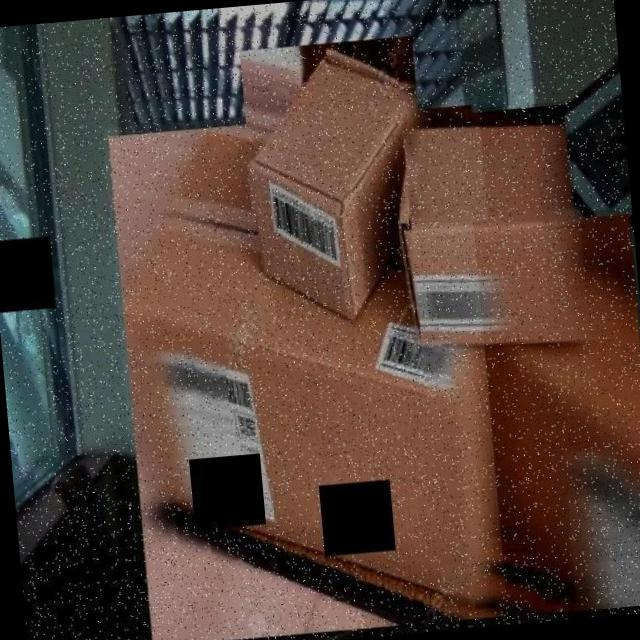box: (101, 95, 523, 640), (473, 207, 640, 624), (236, 31, 439, 336), (386, 100, 590, 365)
